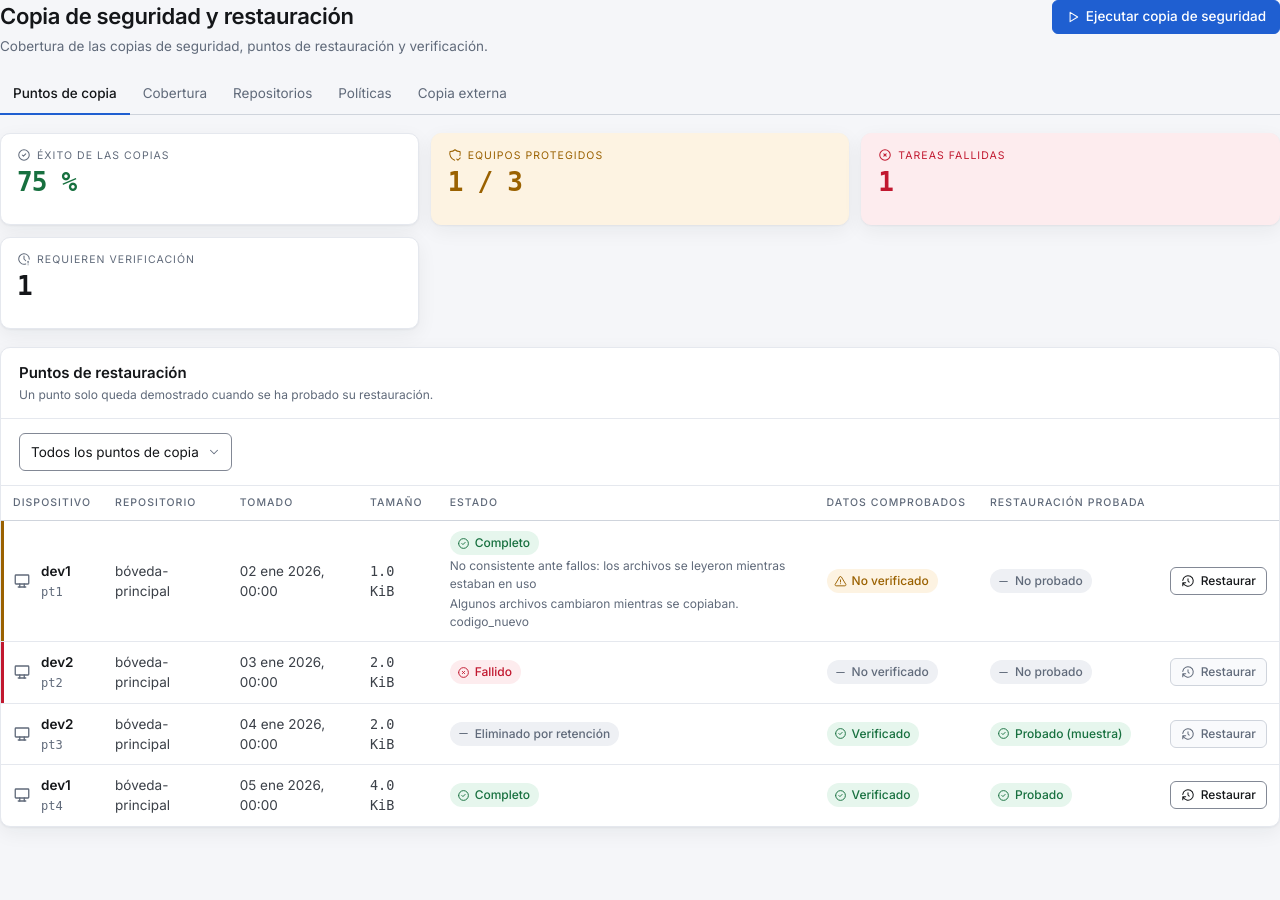
it: the Run backup dialog, in Spanish › explains the dead end when there are no devices, and links to adding a computer
This screenshot has width=1280, height=900.
Expected: the text "pt1" is shown, [41,585,63,599]
What coordinates should you click on to do the following:
click the button "Ejecutar copia de seguridad"
I would click on:
 (1166, 17)
Its box is [1052,0,1279,34].
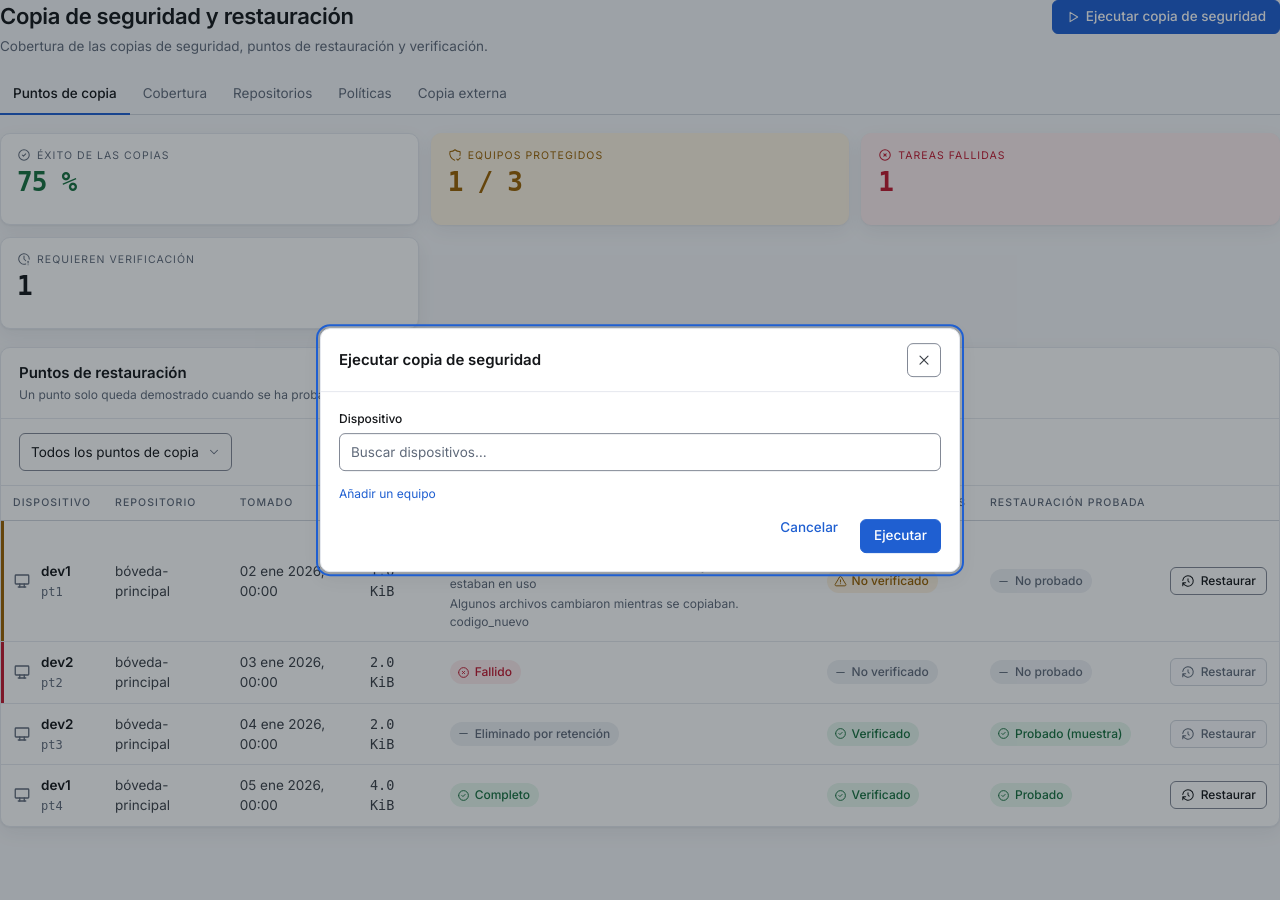
What coordinates should you click on to do the following:
click the dropdown labelled "Dispositivo"
I would click on:
 (640, 452)
Its box is [339,433,941,471].
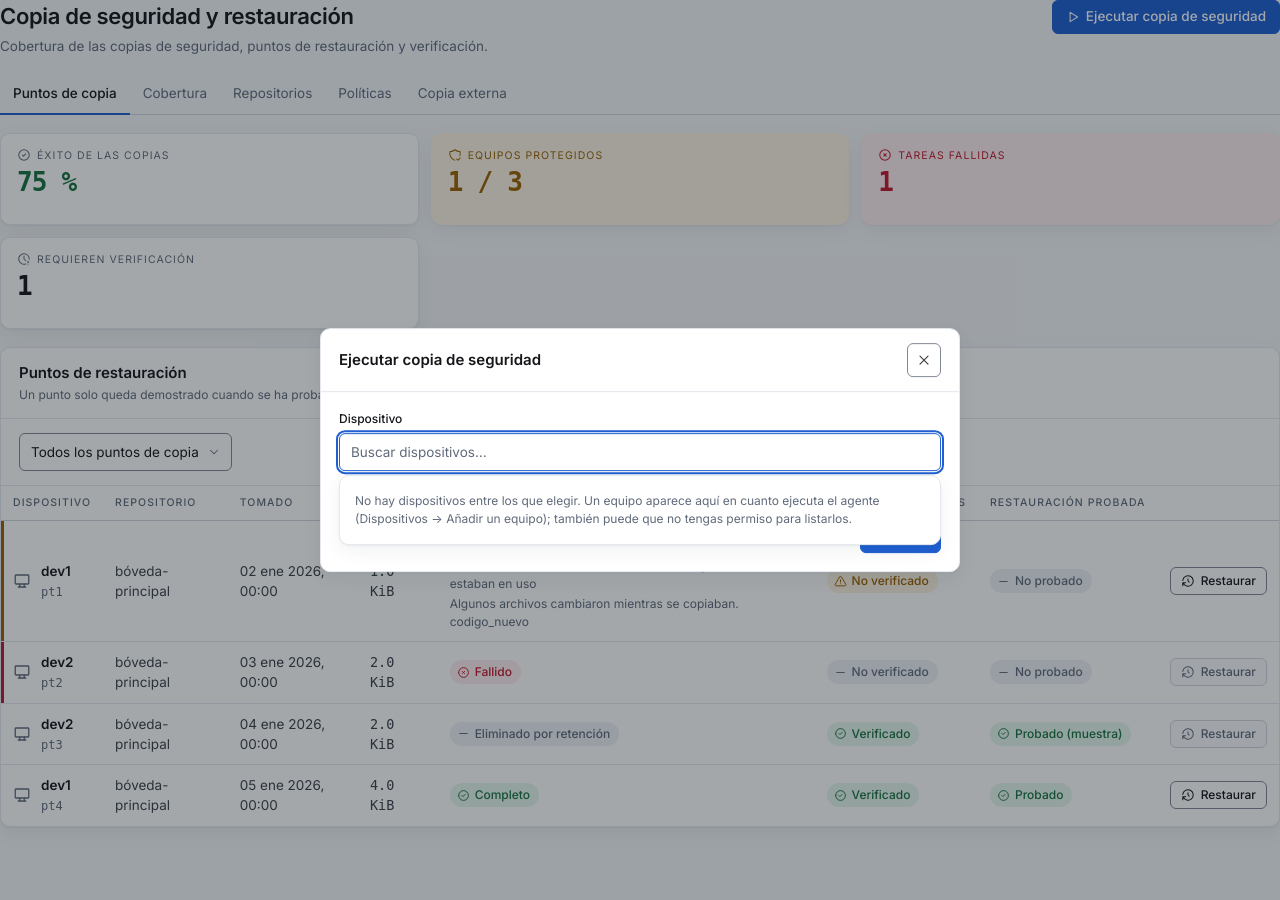
Result: the link "Añadir un equipo" is shown at [339,486,436,501]
Result: the list item "No hay dispositivos entre los que elegir. Un equipo aparece aquí en cuanto ejecuta el agente (Dispositivos → Añadir un e" is shown at [355,493,880,526]
